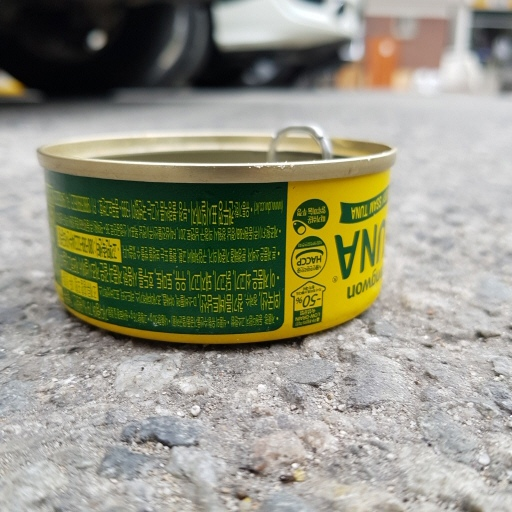Metal_1: (34, 124, 398, 346)
